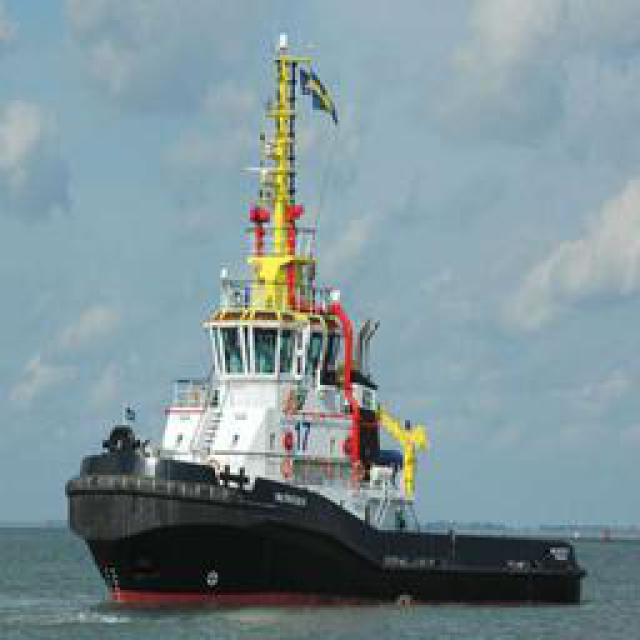Ship: (65, 81, 580, 601)
